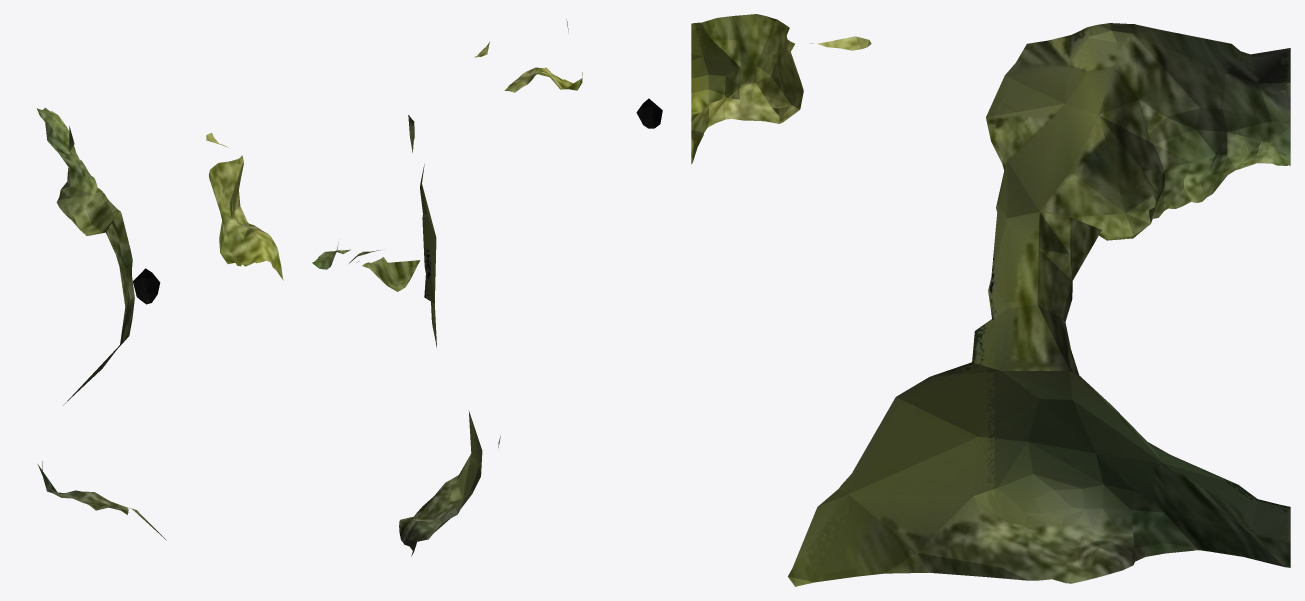
3 renders of one model, left to right at view 1: azimuth 30°, elevation 25°; view 2: azimuth 150°, elevation 25°; view 3: azimuth 270°, elevation 25°, orthographic. The views are drawn at different scales.
Size of the model in its own units: 1.98 by 5.9 by 5.9.
Materials: 2 (2 with a texture image).
